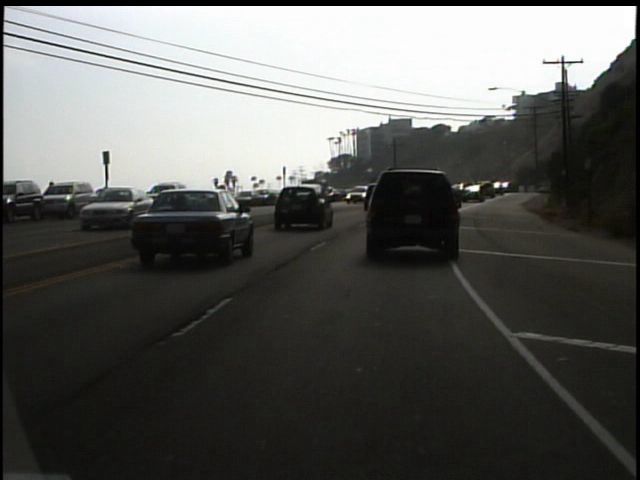person: (49, 179, 67, 193)
